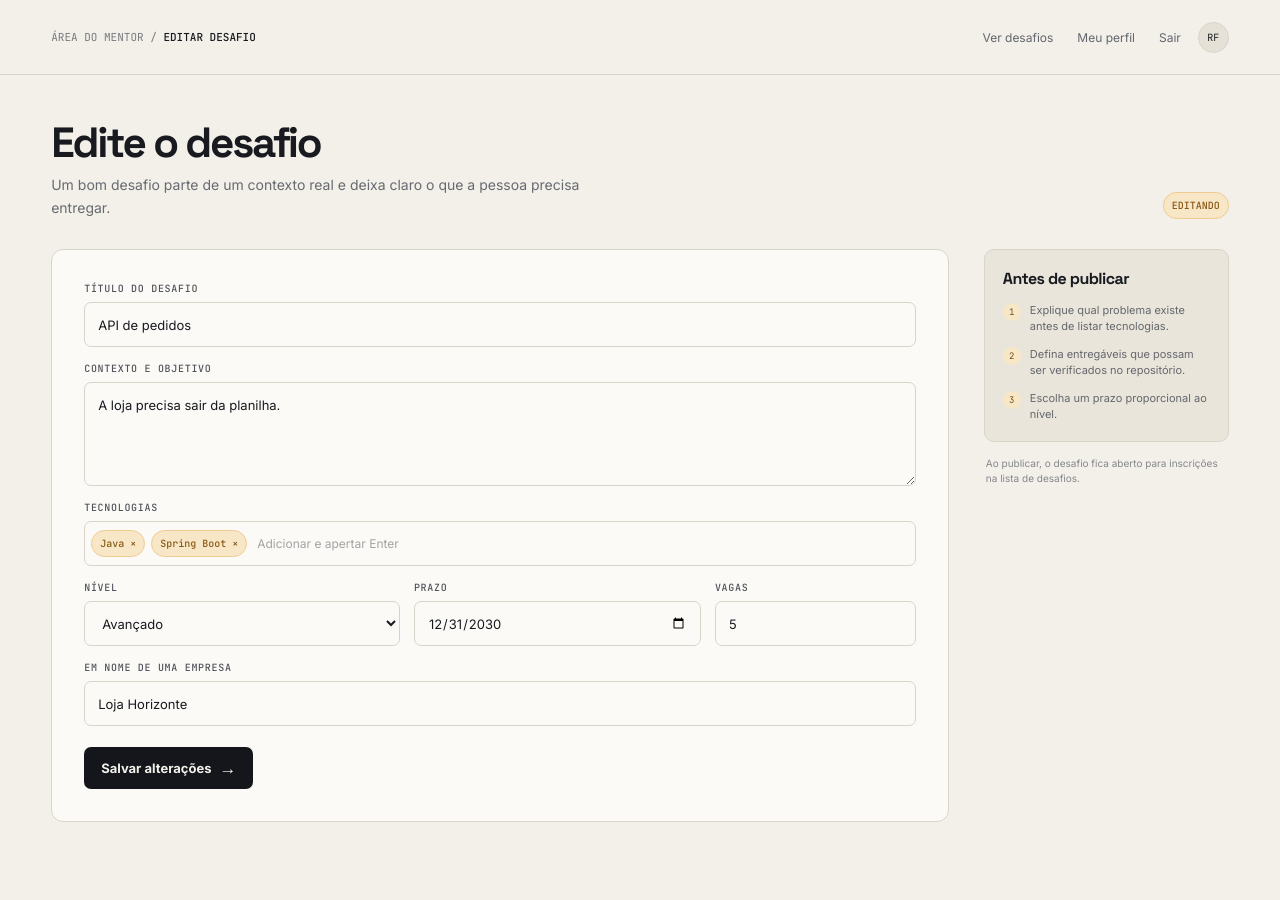
Test: PostarDesafio editando › explica quando outro mentor tenta salvar
Check: the field showing "API de pedidos" is shown, box x1=84 y1=302 x2=916 y2=347
Click the button "Salvar alterações →".
click(169, 768)  # box x1=84 y1=747 x2=254 y2=789
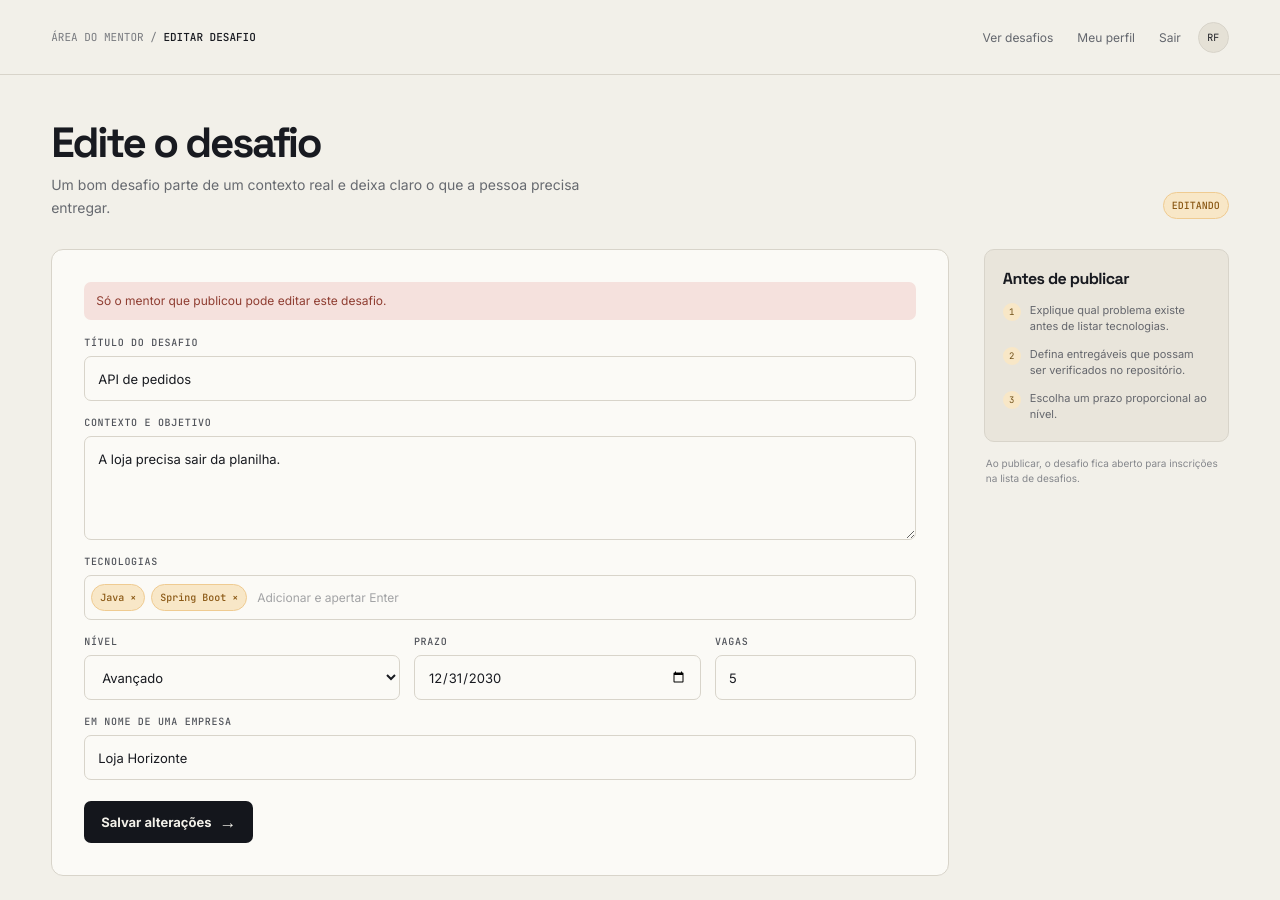
Check: the message reads "Só o mentor que publicou pode editar este desafio.", box x1=96 y1=293 x2=386 y2=308
